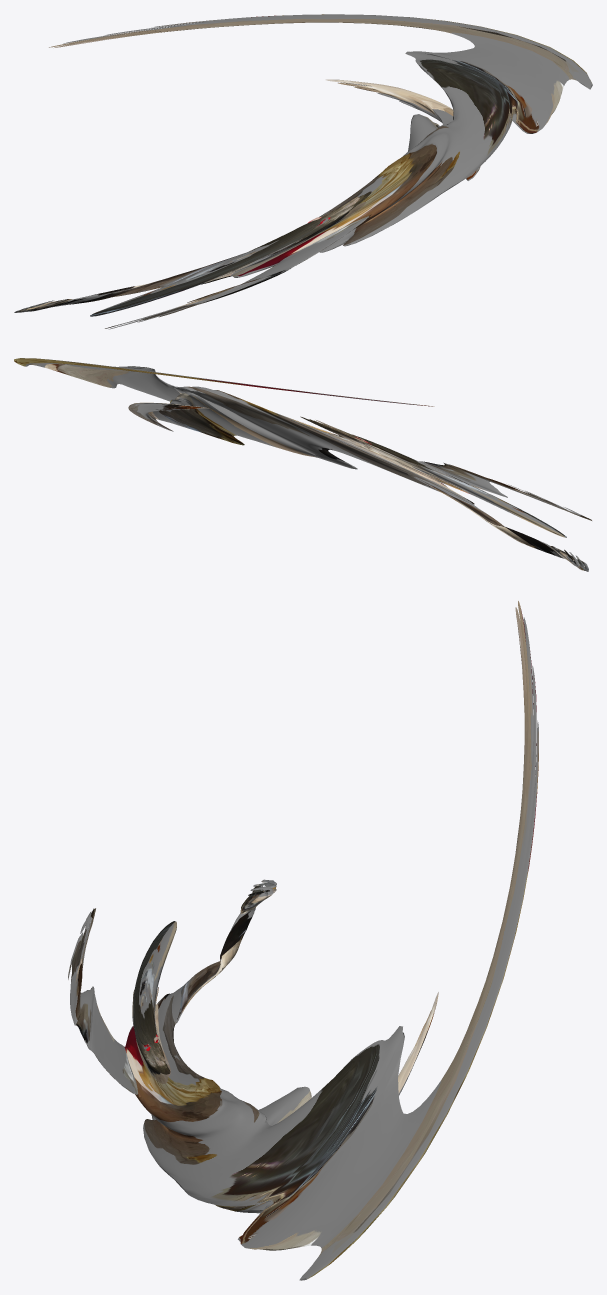
File: twist5.obj
The picture shows the model from 3 angles, top to bottom: view 1: azimuth 30°, elevation 25°; view 2: azimuth 150°, elevation 25°; view 3: azimuth 270°, elevation 25°; orthographic projection. The views are drawn at different scales.
Visible parts, largest first — view 1: default; view 2: default; view 3: default.
Boxes of the visible parts, bbox=[...] form: default: bbox=[14, 14, 592, 329]; default: bbox=[14, 358, 591, 571]; default: bbox=[68, 601, 538, 1280].
Size of the model in its own units: 5000 by 1594 by 1817.
